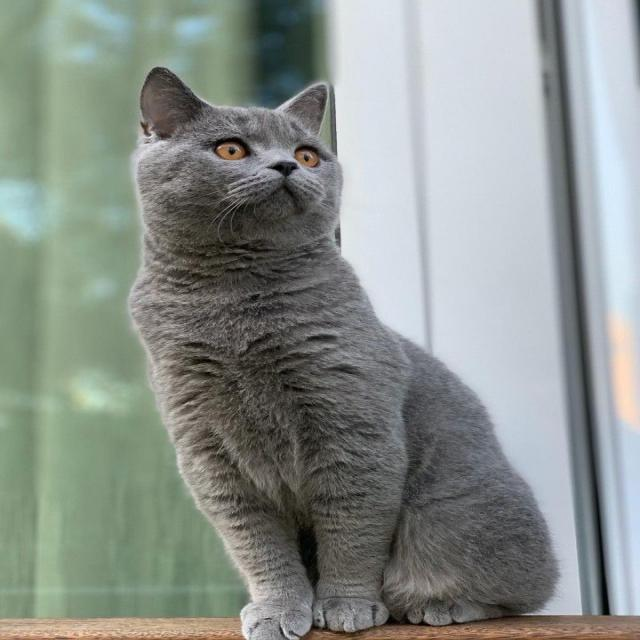british shorthair: (32, 13, 593, 638)
